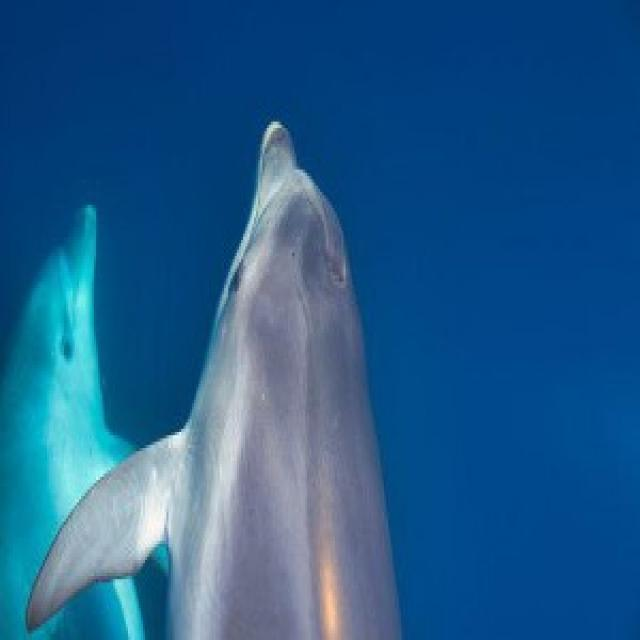Dolphin: (122, 102, 423, 640), (5, 196, 136, 640)
